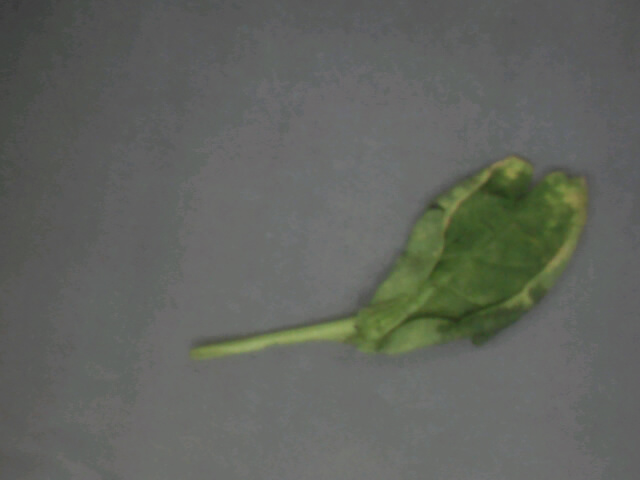yellow: (326, 149, 599, 352)
